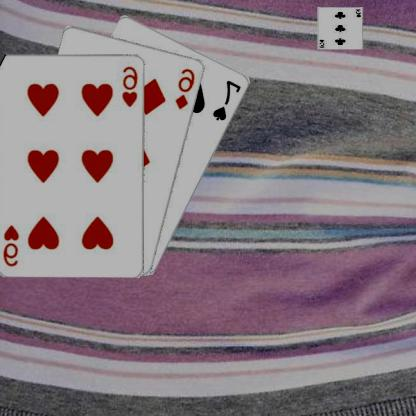6D: (174, 66, 198, 110)
6H: (2, 222, 22, 267), (122, 63, 141, 108)
7S: (212, 78, 244, 122)
